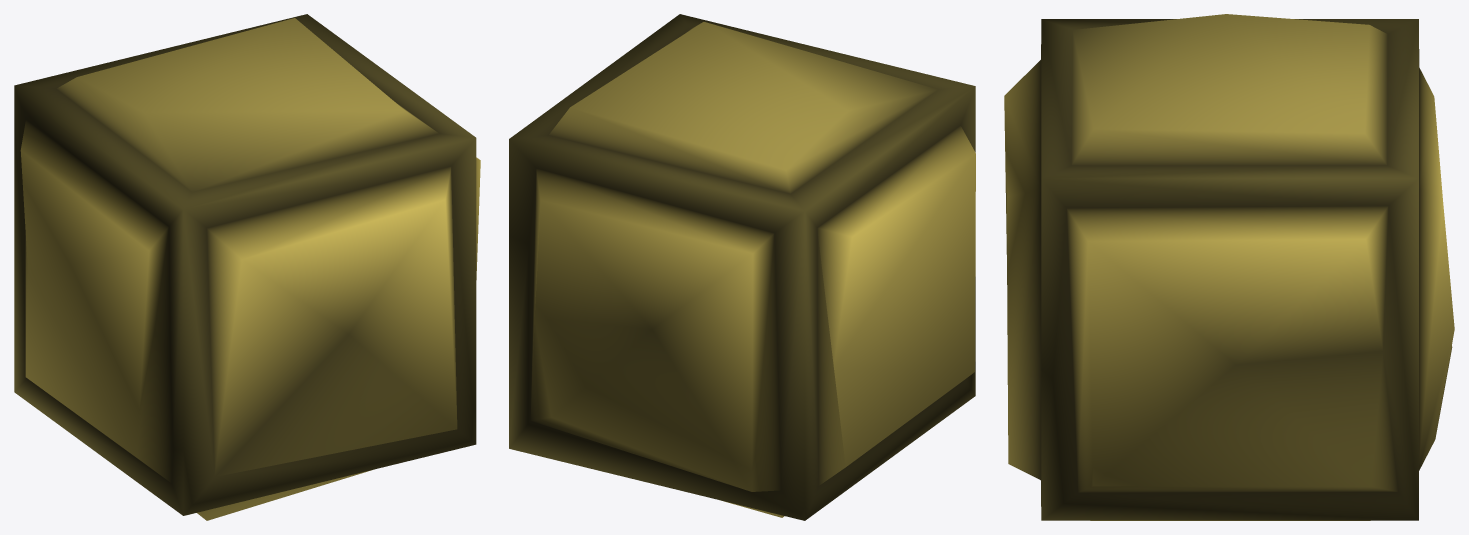
File: Block1.fbx
3 views of the same model, side by side, from view 1: azimuth 30°, elevation 25°; view 2: azimuth 150°, elevation 25°; view 3: azimuth 270°, elevation 25° (orthographic). The views are drawn at different scales.
Visible parts, largest first — view 1: Block1_LOD0; view 2: Block1_LOD0; view 3: Block1_LOD0.
Boxes of the visible parts, x1,y1,x2,y2 form: Block1_LOD0: [14, 14, 480, 520]; Block1_LOD0: [509, 14, 975, 520]; Block1_LOD0: [1004, 14, 1454, 520].
Size of what is drawn, in the model's own units: 233 by 235 by 239.
